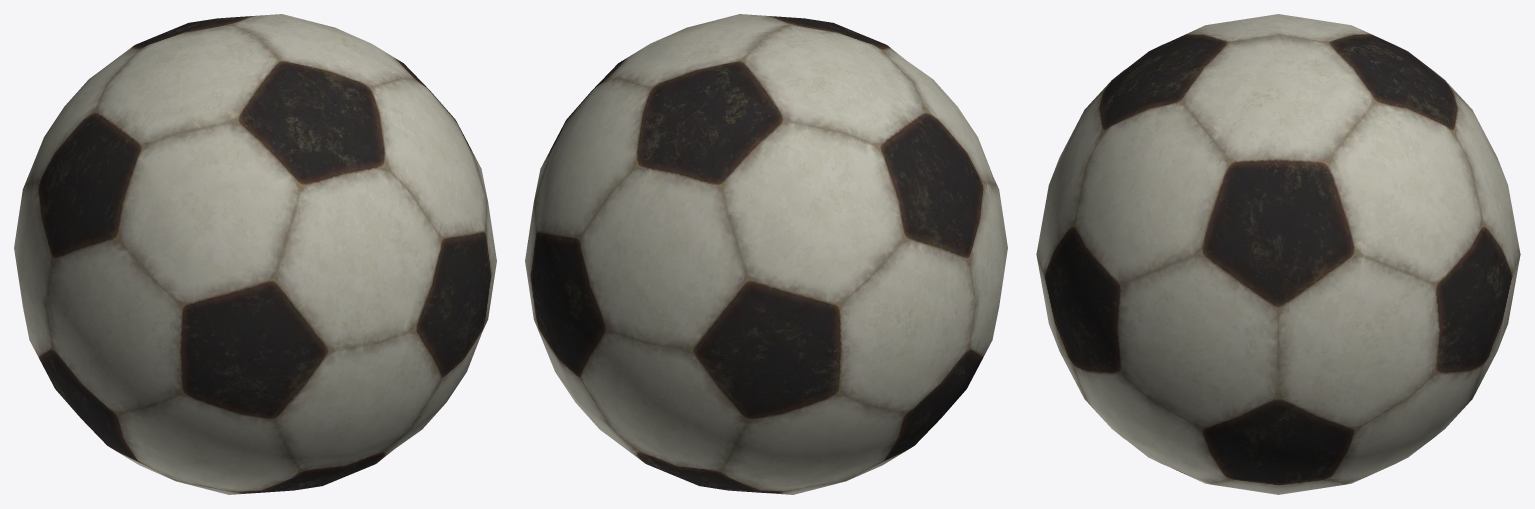
Rendered from test-ball.gltf.
3 views of the same model, side by side, from view 1: azimuth 30°, elevation 25°; view 2: azimuth 150°, elevation 25°; view 3: azimuth 270°, elevation 25° (orthographic).
Parts seen in each view (by area): view 1: g; view 2: g; view 3: g.
Part boxes in pixels (<box>): g: <box>14,14,496,494</box>; g: <box>525,14,1007,494</box>; g: <box>1036,14,1520,494</box>.
Size of the model in its own units: 2 by 2 by 2.
Materials: 1 (1 with a texture image).
